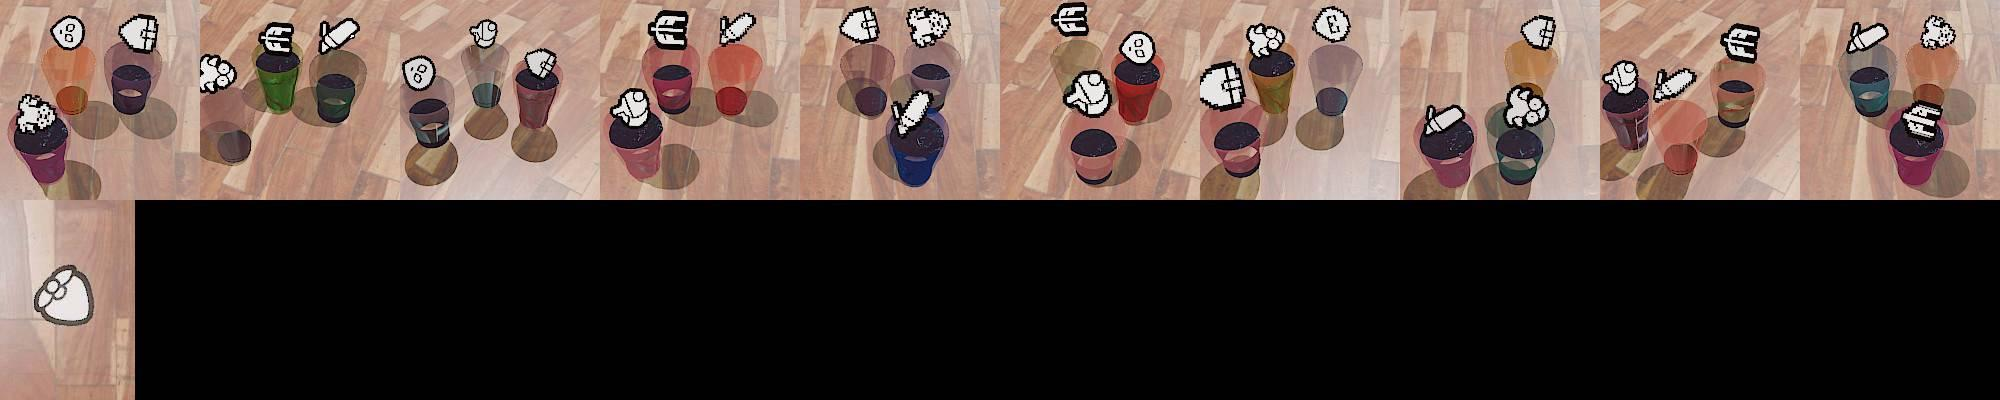icon: (32, 265, 96, 329), (1062, 68, 1114, 116), (1199, 61, 1245, 111), (1503, 84, 1550, 129), (610, 87, 653, 132), (904, 6, 950, 48), (15, 93, 62, 134), (1899, 99, 1943, 140), (1652, 65, 1698, 103), (1721, 23, 1761, 64), (648, 10, 690, 50), (198, 52, 237, 93), (1245, 22, 1287, 60), (117, 14, 159, 52), (839, 6, 880, 45), (319, 18, 360, 55), (1423, 101, 1467, 135), (1847, 20, 1890, 55), (895, 89, 930, 132), (1311, 6, 1351, 43), (1602, 59, 1640, 96), (1520, 14, 1557, 52), (1051, 3, 1089, 38), (1920, 14, 1957, 50), (50, 15, 87, 51), (718, 11, 756, 46), (1119, 31, 1157, 65), (402, 55, 436, 90), (522, 47, 557, 80), (259, 22, 296, 52), (468, 19, 499, 51)
